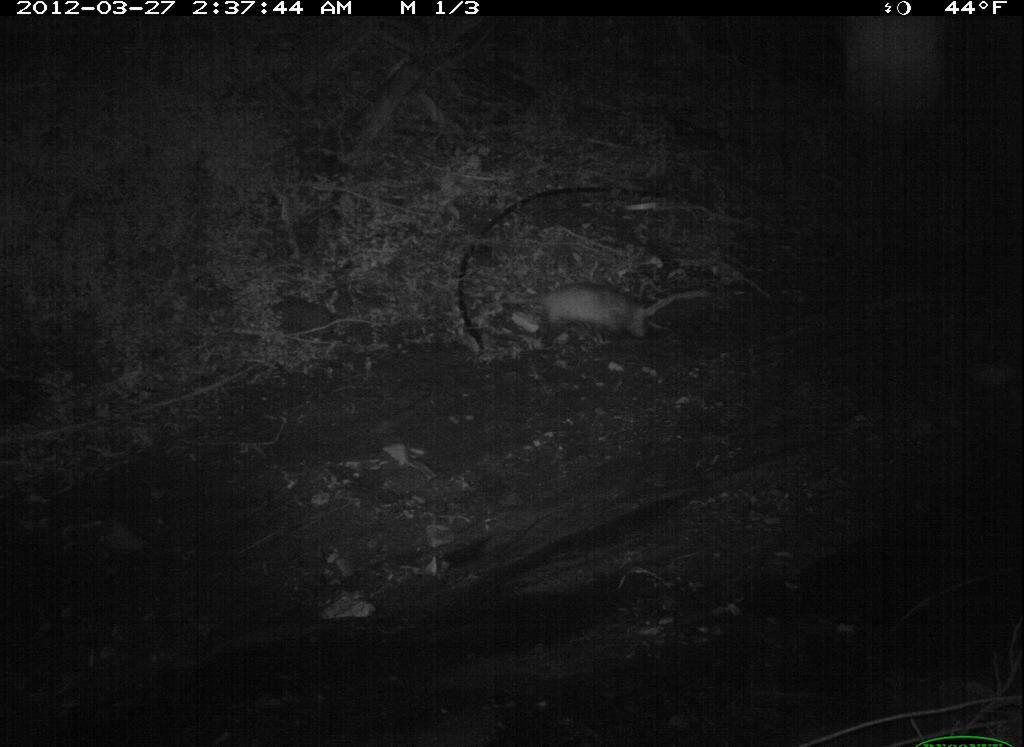opossum: (486, 272, 711, 359)
